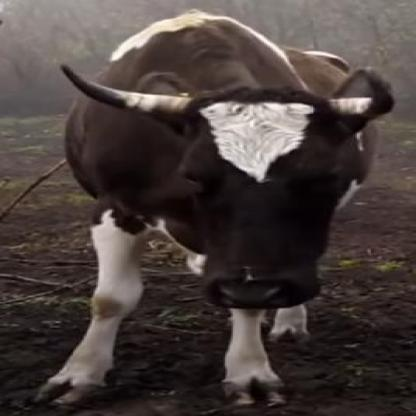cow: (33, 10, 395, 407)
